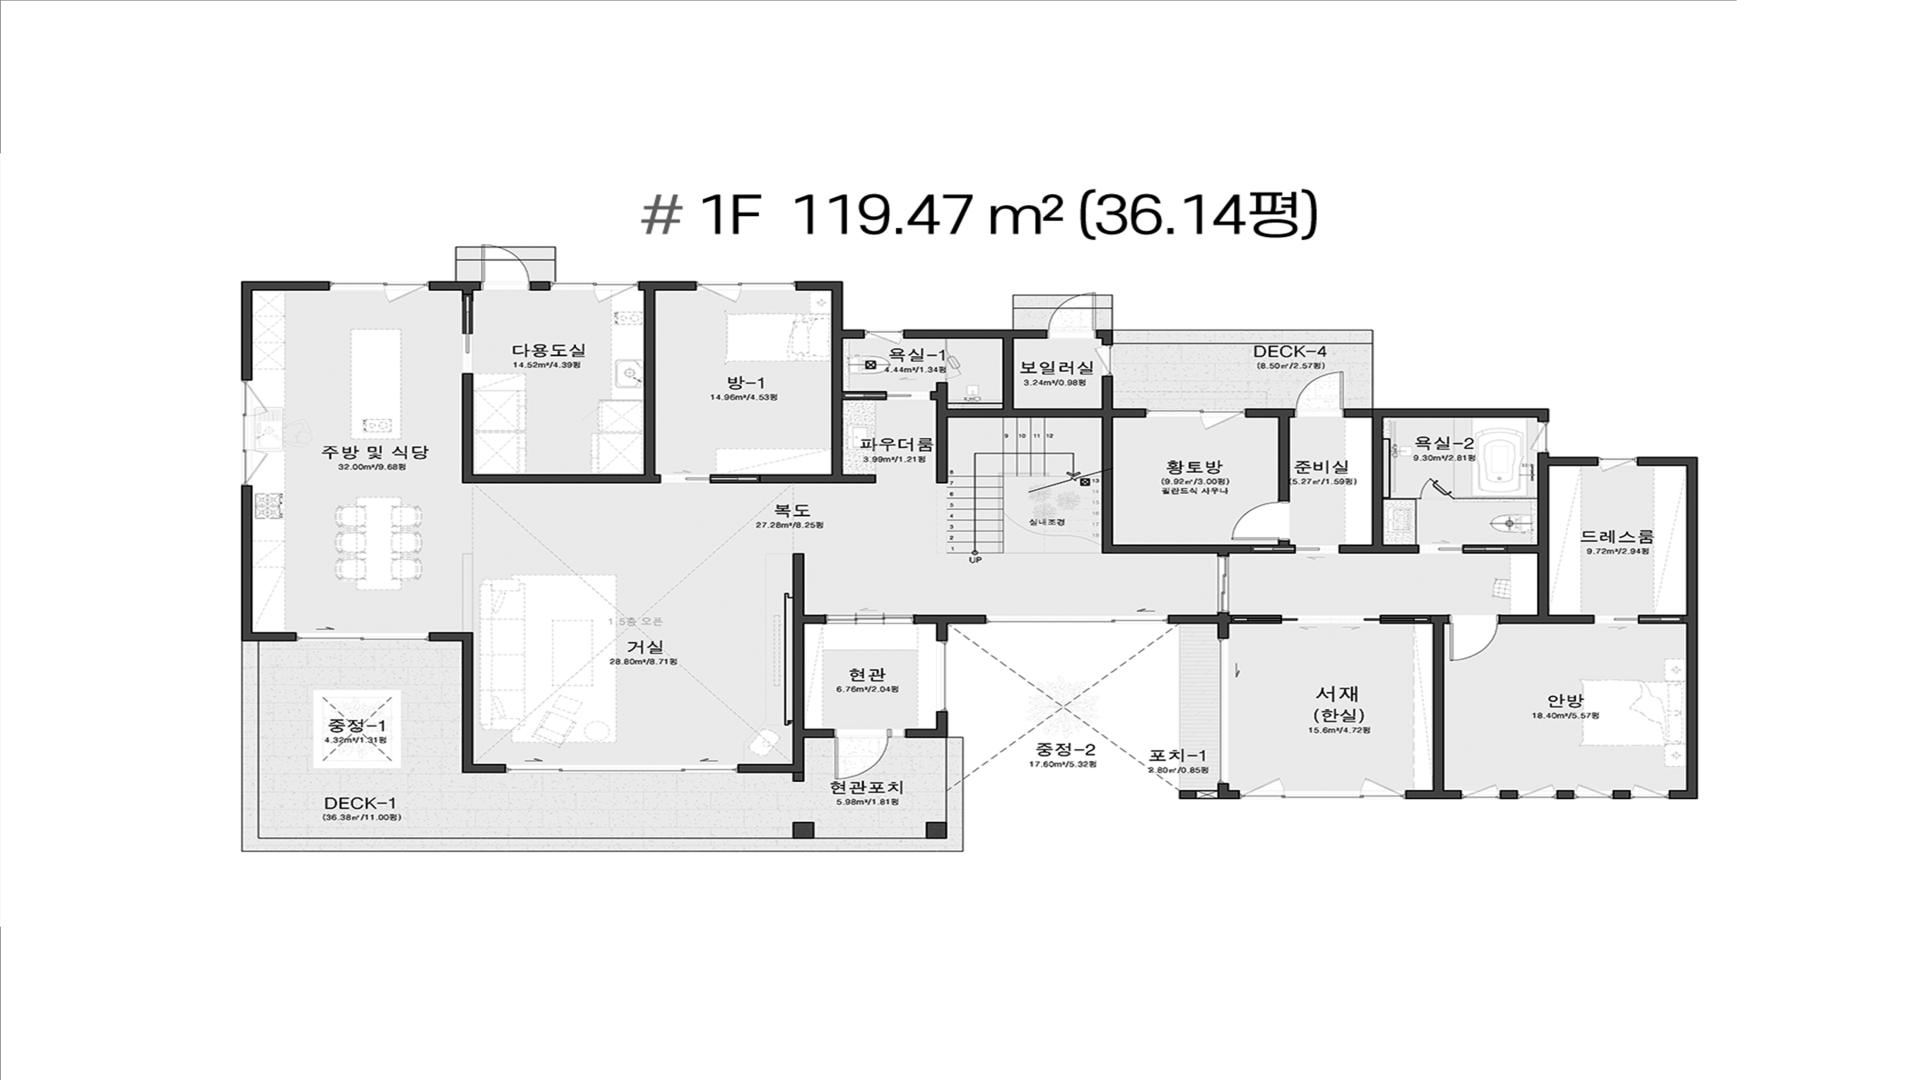door: (833, 729, 891, 779), (1448, 615, 1501, 661), (1230, 500, 1290, 541), (1295, 371, 1345, 418), (480, 244, 530, 290), (1047, 293, 1096, 339), (1230, 615, 1431, 624), (462, 294, 473, 373), (661, 475, 761, 484), (1250, 545, 1340, 554), (1419, 545, 1509, 554), (825, 615, 914, 624), (1594, 615, 1683, 624), (1420, 477, 1455, 500), (843, 392, 930, 400), (1217, 556, 1229, 613), (945, 349, 961, 380)
wall: (1101, 418, 1250, 558), (429, 632, 506, 773), (1669, 467, 1697, 799), (241, 281, 330, 381), (241, 485, 297, 641), (738, 729, 833, 782), (1431, 615, 1448, 790), (1344, 409, 1549, 422), (644, 291, 655, 475), (793, 553, 804, 729), (1101, 376, 1146, 418), (930, 382, 948, 484), (1538, 465, 1549, 615), (473, 475, 661, 484), (948, 407, 1101, 418), (831, 339, 843, 475), (831, 290, 864, 339), (1168, 613, 1232, 638), (1371, 418, 1383, 545), (891, 712, 948, 738), (903, 330, 1047, 339), (462, 373, 473, 484), (761, 475, 876, 484), (1278, 418, 1290, 500), (1538, 452, 1598, 467), (1499, 615, 1594, 624), (1002, 339, 1014, 409), (1340, 545, 1419, 554), (430, 281, 481, 294), (914, 615, 986, 624), (1636, 456, 1697, 467), (638, 281, 696, 290), (1406, 790, 1461, 799), (1246, 409, 1295, 418), (795, 281, 843, 290), (1217, 785, 1240, 799), (1096, 330, 1113, 345), (1509, 545, 1538, 554), (936, 624, 948, 641), (804, 615, 825, 624), (530, 281, 550, 290), (1556, 790, 1575, 799), (1613, 790, 1630, 799), (1501, 790, 1518, 799), (1179, 790, 1196, 799), (1278, 541, 1290, 545)
window: (1240, 777, 1406, 799), (241, 381, 269, 485), (328, 281, 430, 303), (696, 281, 795, 303), (506, 764, 738, 773), (1146, 409, 1246, 430), (550, 281, 638, 302), (1217, 638, 1229, 785), (986, 615, 1168, 624), (297, 632, 429, 641), (936, 641, 948, 712), (1630, 783, 1669, 799), (1461, 783, 1501, 799), (864, 330, 903, 345), (1575, 783, 1613, 799), (1598, 456, 1636, 472), (1530, 422, 1549, 452), (1095, 344, 1113, 376), (1518, 785, 1556, 799), (1196, 790, 1217, 799)
